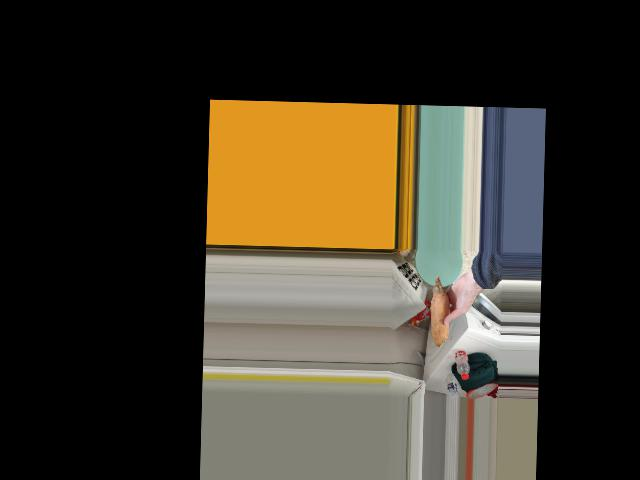sweet_potato: (430, 282, 453, 338)
